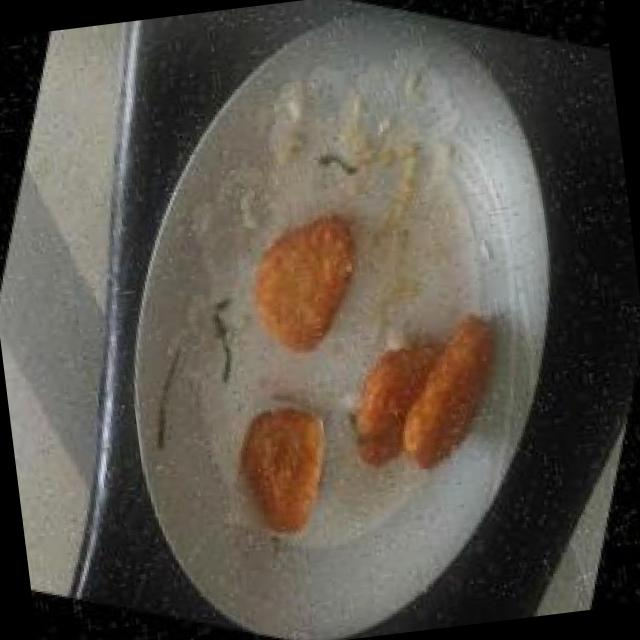triangle_hash_brown: (326, 282, 522, 506), (223, 194, 380, 375), (211, 384, 346, 548)
